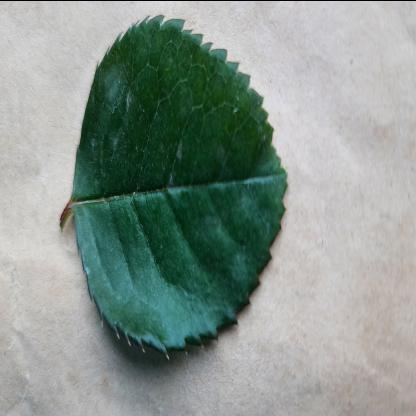normal: (71, 13, 289, 361)
